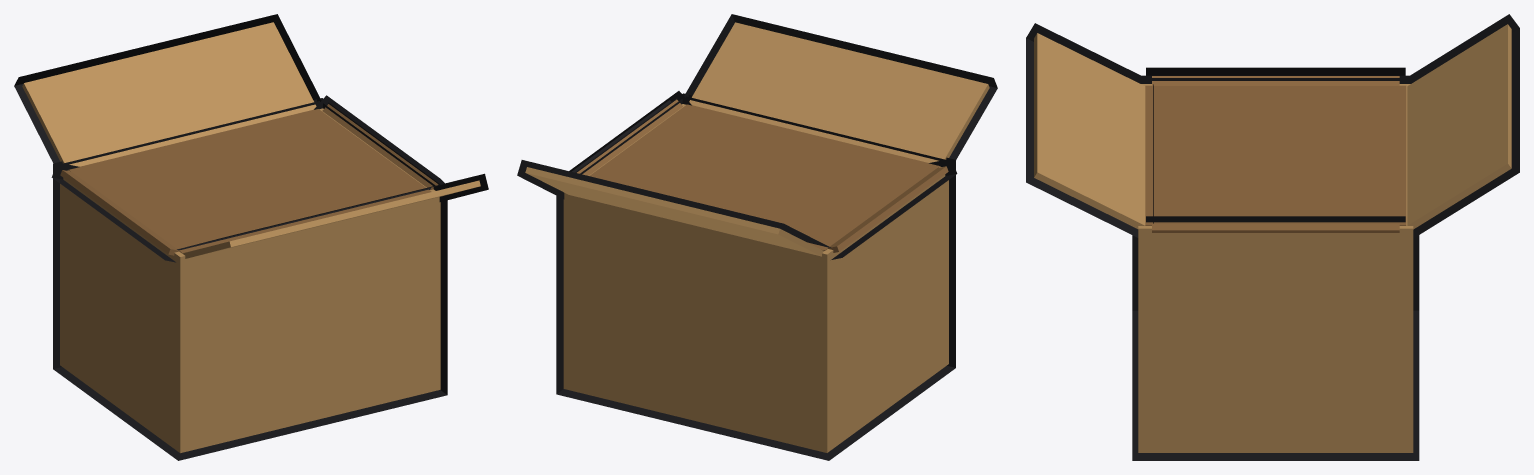
The model's file is Basura_Caja.fbx.
The picture shows the model from 3 angles, left to right: view 1: azimuth 30°, elevation 25°; view 2: azimuth 150°, elevation 25°; view 3: azimuth 270°, elevation 25°; orthographic projection. The views are drawn at different scales.
Visible parts, largest first — view 1: Basura_Caja; view 2: Basura_Caja; view 3: Basura_Caja.
Part boxes in pixels (<box>): Basura_Caja: <box>14,14,488,460</box>; Basura_Caja: <box>517,14,997,460</box>; Basura_Caja: <box>1026,14,1519,460</box>.
Bounding box in the file's own units: 0.5456 × 0.4808 × 0.7185.
Materials: 2 (1 with a texture image).
